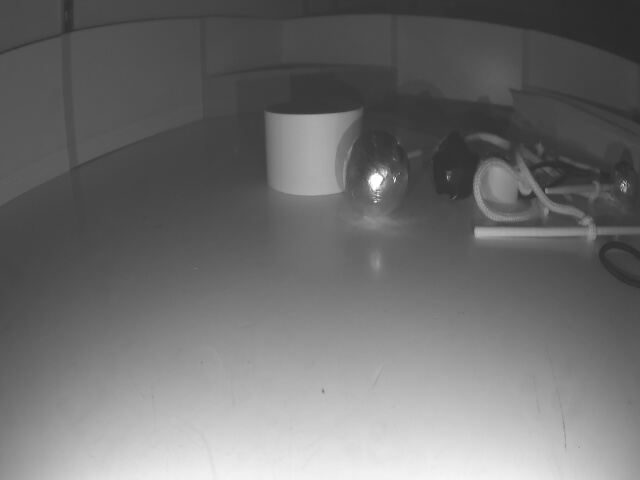Dead: (427, 132, 477, 196)
Live: (339, 132, 405, 212), (615, 160, 637, 202)
Point: (206, 63, 392, 115), (519, 78, 640, 153)
